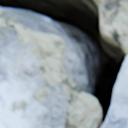brick: (0, 26, 67, 127), (102, 57, 127, 127), (0, 11, 48, 35)
crack: (0, 0, 127, 127)
